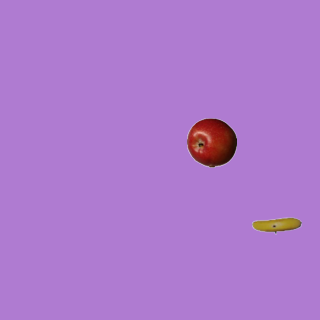Apple Braeburn: (186, 117, 236, 167)
Banana: (251, 200, 301, 250)
